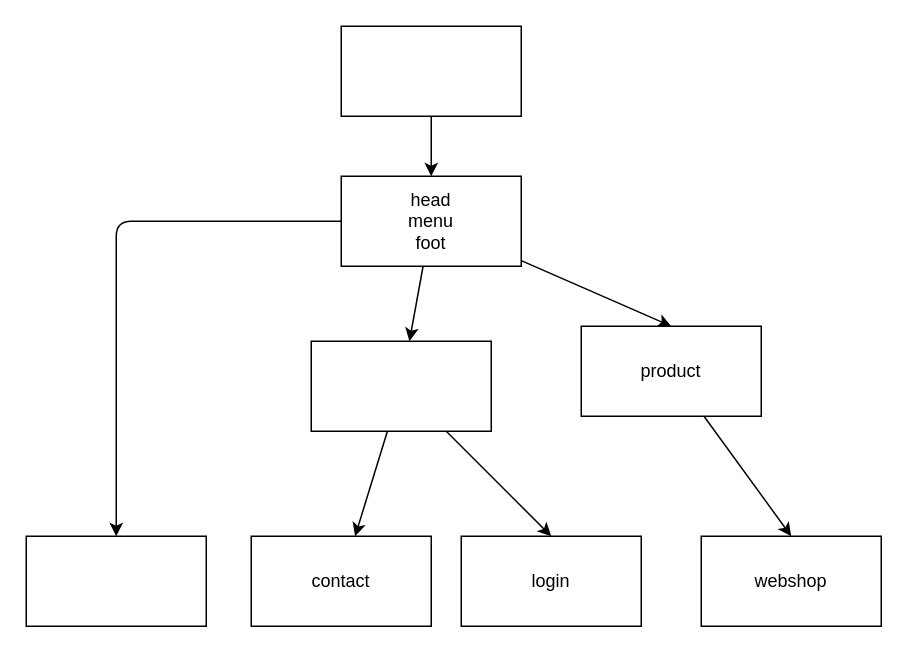
Some shapes in this 908 by 653 pixel diagram are drawn without their labels. The centre of each missing label's shape, as x and y in pixels:
"form" goes at [400,385].
"Home" goes at [115,580].
"html" goes at [430,70].
